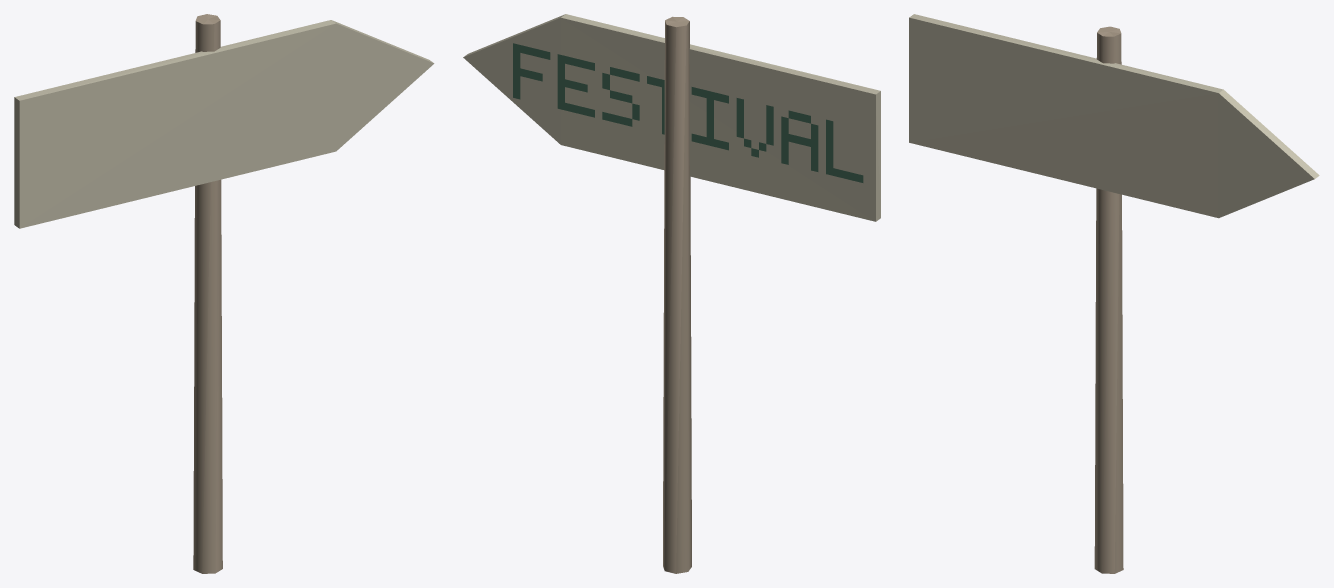
The model's file is festival_sign_a.glb.
3 views of the same model, side by side, from view 1: azimuth 30°, elevation 25°; view 2: azimuth 150°, elevation 25°; view 3: azimuth 330°, elevation 25° (orthographic). The views are drawn at different scales.
Parts seen in each view (by area): view 1: body; view 2: body; view 3: body.
Boxes of the visible parts, x1,y1,x2,y2 form: body: (14, 14, 434, 573); body: (463, 14, 880, 573); body: (909, 14, 1319, 573).
Size of what is drawn, in the model's own units: 1.9 by 2.4 by 0.1191.
